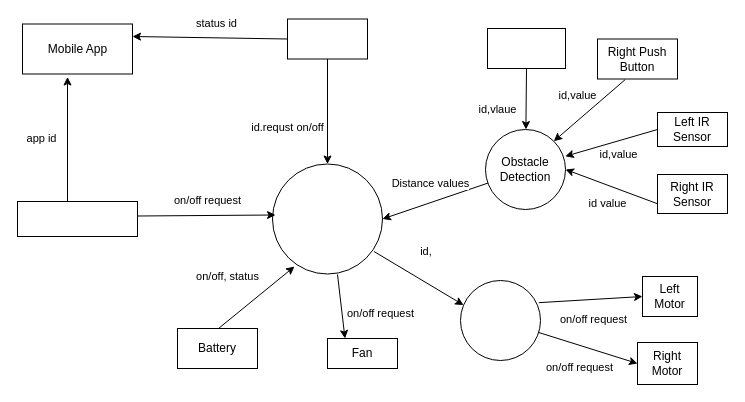
The diagram is 745 pixels wide and 402 high, and some of its shapes have lost their labels. The centre of each missing label's shape, as x and y in pixels:
Device Movement: the point at 500,320
Left Push Button: the point at 526,48
Main Vacuume Controller: the point at 327,218
User: the point at 77,218
WiFi Module: the point at 327,38
